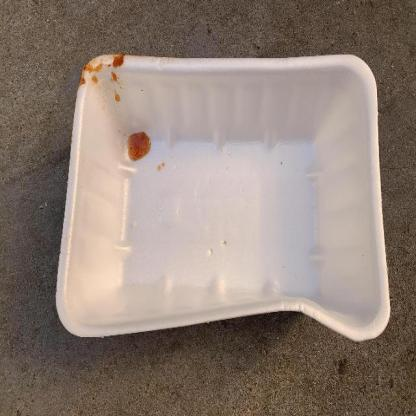Glass Cup: (56, 52, 390, 343), (56, 54, 391, 341)
